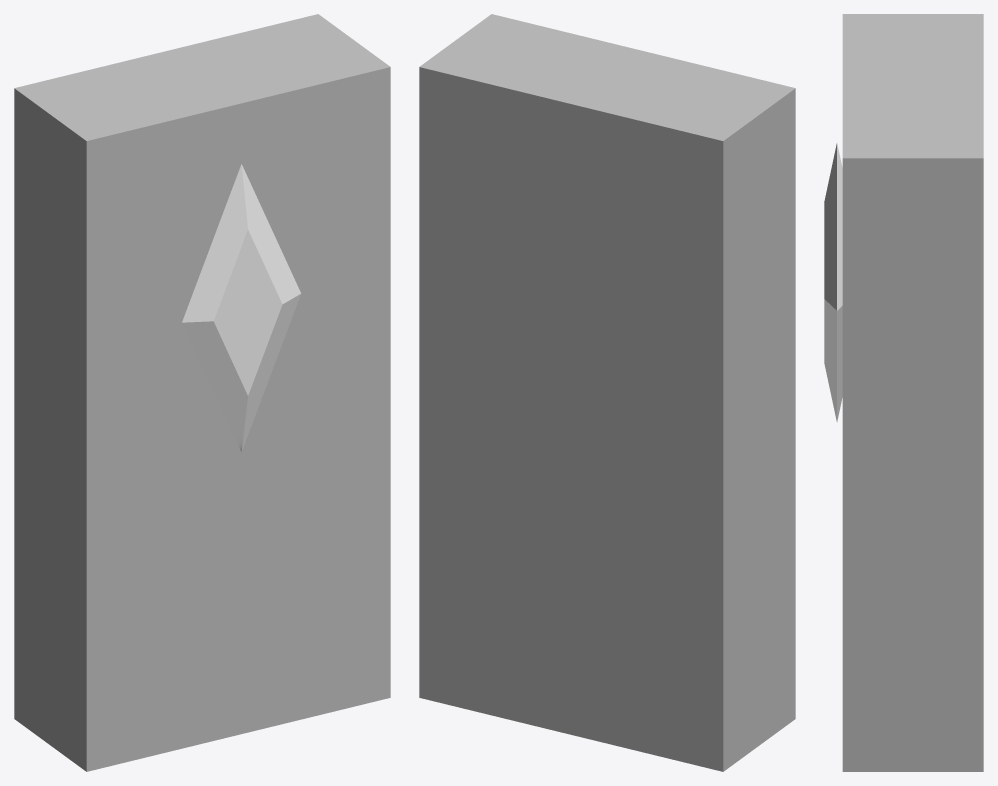
The model's file is Monolithv3.fbx.
3 views of the same model, side by side, from view 1: azimuth 30°, elevation 25°; view 2: azimuth 150°, elevation 25°; view 3: azimuth 270°, elevation 25° (orthographic). The views are drawn at different scales.
Parts seen in each view (by area): view 1: Cube; view 2: Cube; view 3: Cube.
Part boxes in pixels (<box>): Cube: <box>14,14,390,771</box>; Cube: <box>419,14,795,771</box>; Cube: <box>824,14,983,771</box>.
Size of the model in its own units: 325 by 644 by 151.
1 material, 1 textured.
